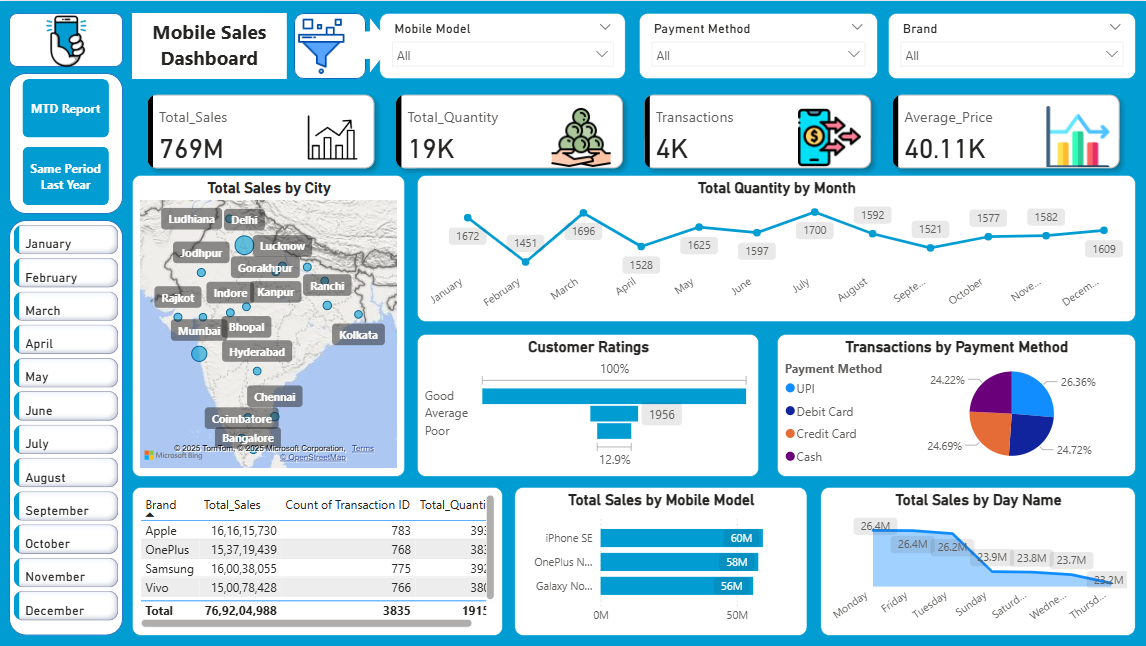

This screenshot's page, from the dashboard's own definition file:
{"tool":"powerbi","page":{"name":"Dashboard","canvas":[1280,720],"ordinal":0},"visuals":[{"type":"shape","box":[13.3,13.3,126.7,60],"z":0},{"type":"image","box":[21.7,1.7,110,85],"z":1000},{"type":"shape","box":[13.3,80,126.7,156.7],"z":2000},{"type":"shape","box":[13.3,243.3,126.7,461.7],"z":3000},{"type":"advancedSlicerVisual","fields":{"Values":["Custom_Calendar.Date.Variation.Date Hierarchy.Month"]},"box":[13.3,243.3,126.7,461.7],"z":4000},{"type":"cardVisual","fields":{"Data":["Mobile_Sales_Data.Total_Sales","Mobile_Sales_Data.Total_Quantity","Mobile_Sales_Data.Transactions","Mobile_Sales_Data.Average_Price"]},"box":[150,86.7,1115,116.7],"z":5000},{"type":"slicer","fields":{"Values":["Mobile_Sales_Data.Mobile Model"]},"box":[425,13.3,273.3,73.3],"z":6000},{"type":"slicer","fields":{"Values":["Mobile_Sales_Data.Payment Method"]},"box":[713.3,13.3,265,73.3],"z":7000},{"type":"slicer","fields":{"Values":["Mobile_Sales_Data.Brand"]},"box":[990,13.3,275,73.3],"z":8000},{"type":"shape","box":[330,13.3,80,73.3],"z":9000},{"type":"image","box":[310,13.3,100,73.3],"z":10000},{"type":"shape","box":[390,18.3,48.3,61.7],"z":11000},{"type":"shape","box":[150,13.3,171.7,73.3],"z":12000},{"type":"textbox","box":[150,13.3,171.7,73.3],"z":13000},{"type":"map","title":"Total Sales by City","fields":{"Category":["Mobile_Sales_Data.City"],"Size":["Mobile_Sales_Data.Total_Sales"]},"box":[150,193.3,303.3,335],"z":14000},{"type":"lineChart","title":"Total Quantity by Month","fields":{"Category":["Custom_Calendar.Date.Variation.Date Hierarchy.Month"],"Y":["Mobile_Sales_Data.Total_Quantity"]},"box":[466.7,193.3,798.3,163.3],"z":15000},{"type":"funnel","title":"Customer Ratings","fields":{"Category":["Mobile_Sales_Data.Rating Status"],"Y":["Sum(Mobile_Sales_Data.Customer Ratings)"]},"box":[466.7,370,380,158.3],"z":16000},{"type":"pieChart","fields":{"Y":["Mobile_Sales_Data.Transactions"],"Category":["Mobile_Sales_Data.Payment Method"]},"box":[866.7,370,398.3,158.3],"z":17000},{"type":"clusteredBarChart","title":"Total Sales by Mobile Model","fields":{"Y":["Mobile_Sales_Data.Total_Sales"],"Category":["Mobile_Sales_Data.Mobile Model"]},"box":[575,540,325,165],"z":18000},{"type":"areaChart","title":"Total Sales by Day Name","fields":{"Y":["Mobile_Sales_Data.Total_Sales"],"Category":["Custom_Calendar.Day Name"]},"box":[915,540,350,165],"z":19000},{"type":"tableEx","fields":{"Values":["Mobile_Sales_Data.Brand","Mobile_Sales_Data.Total_Sales","CountNonNull(Mobile_Sales_Data.Transaction ID)","Mobile_Sales_Data.Total_Quantity"]},"box":[150,540,411.7,165],"z":20000},{"type":"pageNavigator","box":[28.3,86.7,96.7,141.7],"z":21000}]}

Visuals, with their boxes in screenshot pixels (x1, y1, x2, y2), scaled from the page's 1280x720 canvas onto the 1146x646 screenshot:
shape: x1=12 y1=12 x2=125 y2=66
image: x1=19 y1=2 x2=118 y2=78
shape: x1=12 y1=72 x2=125 y2=212
shape: x1=12 y1=218 x2=125 y2=633
advancedSlicerVisual - Custom_Calendar.Date.Variation.Date Hierarchy.Month: x1=12 y1=218 x2=125 y2=633
cardVisual - Mobile_Sales_Data.Total_Sales x Mobile_Sales_Data.Total_Quantity: x1=134 y1=78 x2=1133 y2=182
slicer - Mobile_Sales_Data.Mobile Model: x1=381 y1=12 x2=625 y2=78
slicer - Mobile_Sales_Data.Payment Method: x1=639 y1=12 x2=876 y2=78
slicer - Mobile_Sales_Data.Brand: x1=886 y1=12 x2=1133 y2=78
shape: x1=295 y1=12 x2=367 y2=78
image: x1=278 y1=12 x2=367 y2=78
shape: x1=349 y1=16 x2=392 y2=72
shape: x1=134 y1=12 x2=288 y2=78
textbox: x1=134 y1=12 x2=288 y2=78
"Total Sales by City" map: x1=134 y1=173 x2=406 y2=474
"Total Quantity by Month" lineChart: x1=418 y1=173 x2=1133 y2=320
"Customer Ratings" funnel: x1=418 y1=332 x2=758 y2=474
pieChart - Mobile_Sales_Data.Transactions x Mobile_Sales_Data.Payment Method: x1=776 y1=332 x2=1133 y2=474
"Total Sales by Mobile Model" clusteredBarChart: x1=515 y1=484 x2=806 y2=633
"Total Sales by Day Name" areaChart: x1=819 y1=484 x2=1133 y2=633
tableEx - Mobile_Sales_Data.Brand x Mobile_Sales_Data.Total_Sales: x1=134 y1=484 x2=503 y2=633
pageNavigator: x1=25 y1=78 x2=112 y2=205
